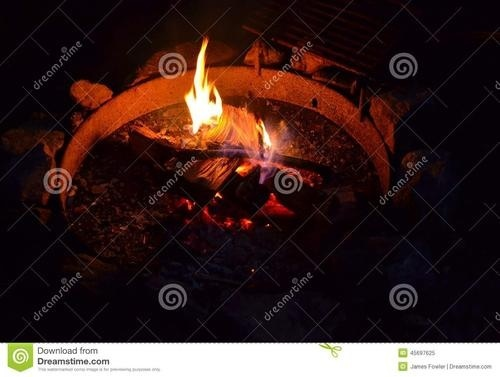fire: (181, 106, 289, 227), (183, 36, 223, 132)
